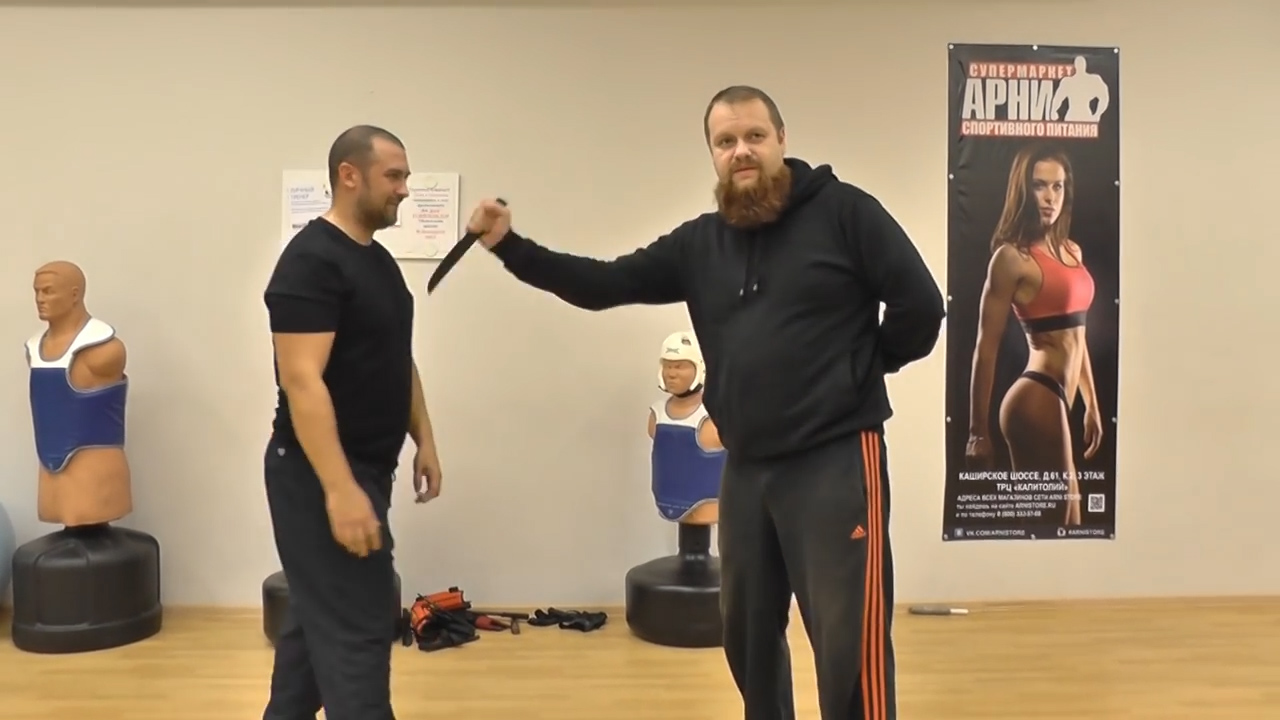knife: (421, 196, 511, 303)
